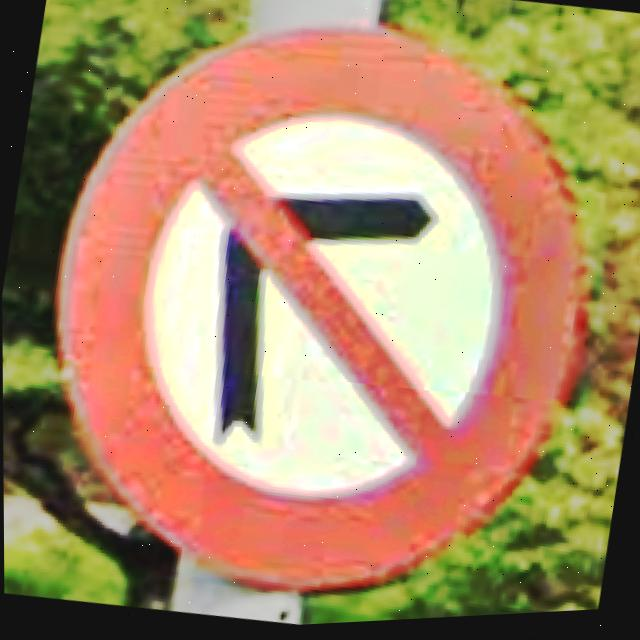noturnright: (53, 24, 587, 599)
